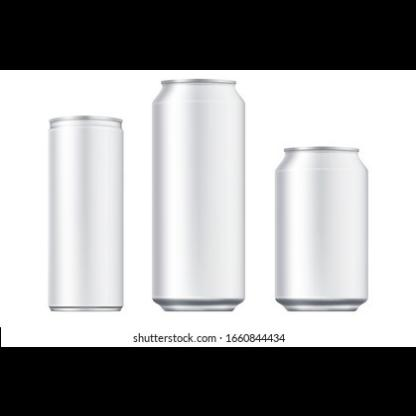Tin_Can: (146, 74, 250, 320), (270, 145, 372, 317), (44, 111, 128, 316)
